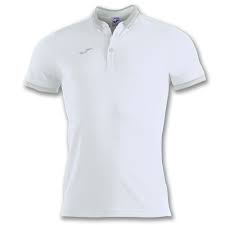C_polo shirt: (26, 9, 209, 220)
